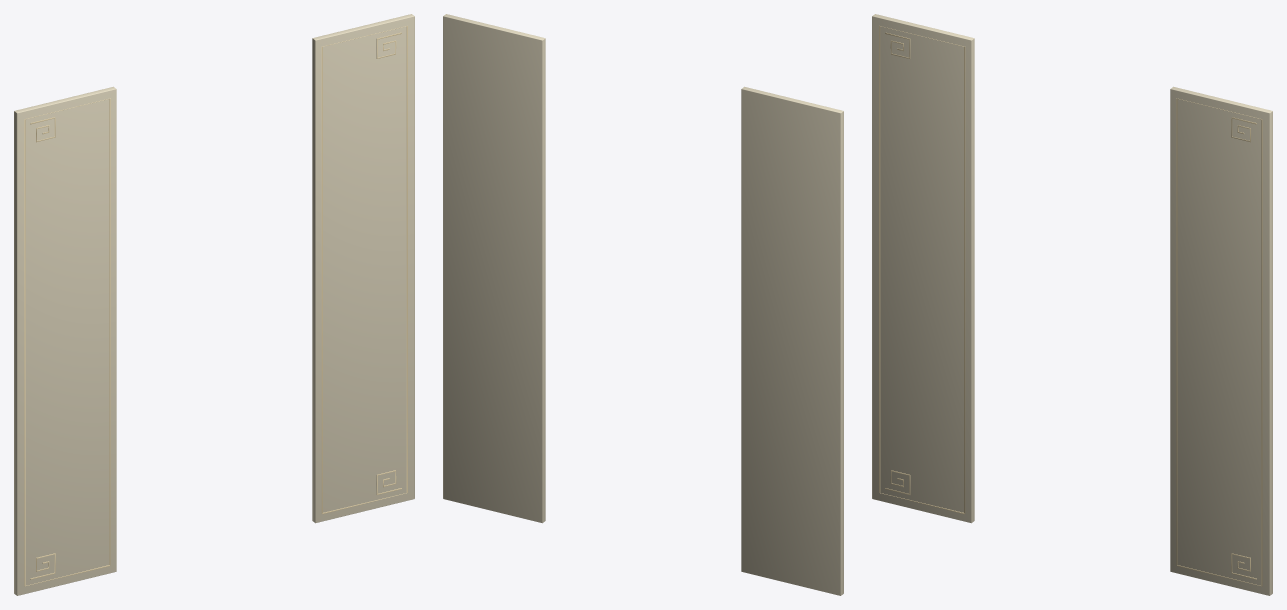
The model's file is landing_door_TM026.glb.
3 views of the same model, side by side, from view 1: azimuth 30°, elevation 25°; view 2: azimuth 150°, elevation 25°; view 3: azimuth 330°, elevation 25° (orthographic).
Parts seen in each view (by area): view 1: Landing_Door_L, Landing_Door_R; view 2: Landing_Door_L, Landing_Door_R; view 3: Landing_Door_L, Landing_Door_R.
Part boxes in pixels (x1,y1,x2,y2): Landing_Door_L: (14,86,116,595); Landing_Door_R: (312,14,414,523); Landing_Door_L: (741,86,843,595); Landing_Door_R: (443,14,545,523); Landing_Door_L: (872,14,974,523); Landing_Door_R: (1170,86,1272,595).
Bounding box in the file's own units: 1.81 × 2.1 × 0.0262.
